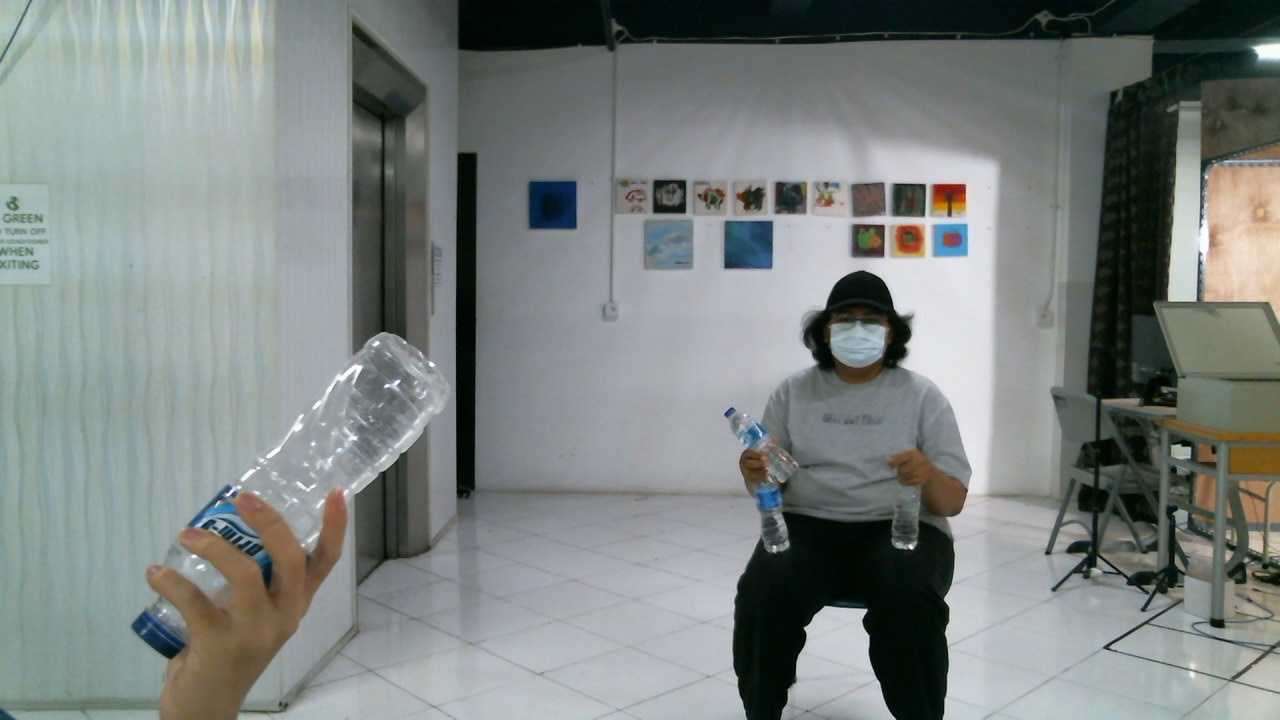Bottle: (124, 335, 449, 660), (722, 402, 800, 485)
